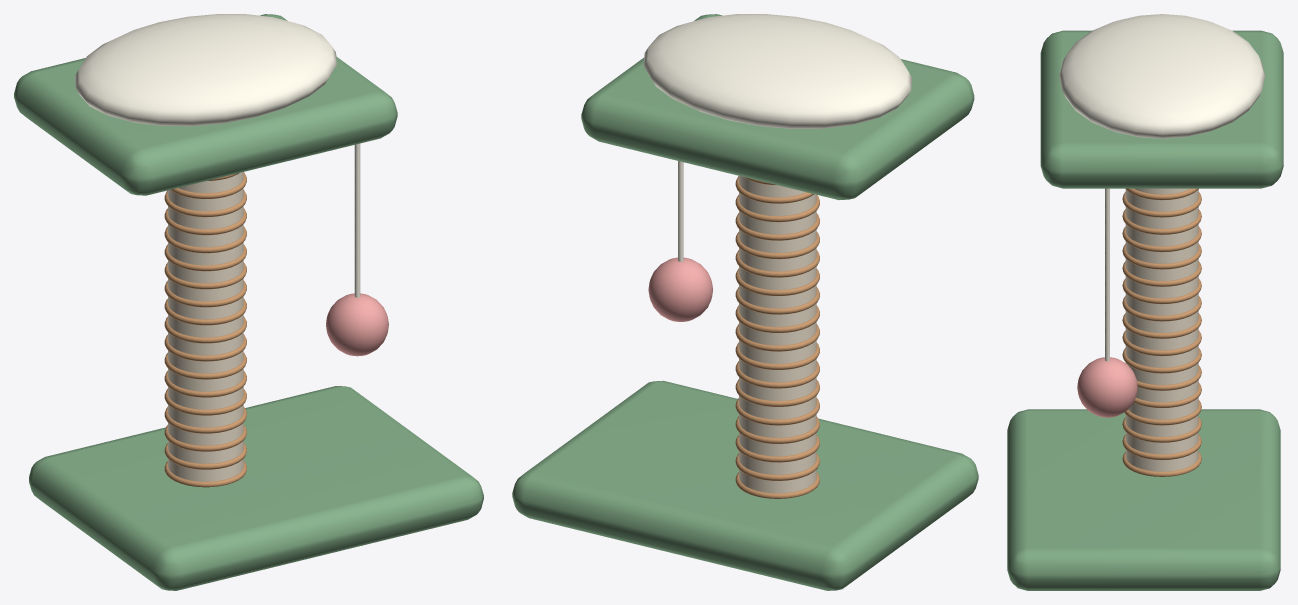
The model's file is toy-scratchPostGreen.glb.
3 renders of one model, left to right at view 1: azimuth 30°, elevation 25°; view 2: azimuth 150°, elevation 25°; view 3: azimuth 270°, elevation 25°, orthographic. The views are drawn at different scales.
Parts seen in each view (by area): view 1: Cat tree base, Upper perch, Cushion, Sisal post, Dangling toy, Hanging toy string, Rope ring.004, Rope ring.005, Rope ring.007, Rope ring.010, Rope ring.003, Rope ring.006 (+9 smaller); view 2: Cat tree base, Upper perch, Cushion, Sisal post, Dangling toy, Rope ring.012, Rope ring.014, Rope ring.010, Rope ring.006, Rope ring.008, Rope ring.002, Rope ring.004 (+10 smaller); view 3: Cat tree base, Cushion, Upper perch, Sisal post, Dangling toy, Hanging toy string, Rope ring.006, Rope ring.009, Rope ring.012, Rope ring.015, Rope ring.002, Rope ring.011 (+11 smaller).
Boxes of the visible parts, <box> form: Cat tree base: <box>29,386,483,590</box>; Upper perch: <box>14,14,397,195</box>; Cushion: <box>74,14,336,126</box>; Sisal post: <box>168,172,243,481</box>; Dangling toy: <box>326,293,388,356</box>; Hanging toy string: <box>354,143,360,297</box>; Rope ring.004: <box>164,389,246,415</box>; Rope ring.005: <box>164,371,246,397</box>; Rope ring.007: <box>164,334,246,361</box>; Rope ring.010: <box>164,280,246,307</box>; Rope ring.003: <box>164,407,246,433</box>; Rope ring.006: <box>164,353,246,379</box>; Cat tree base: <box>512,380,978,590</box>; Upper perch: <box>581,14,974,199</box>; Cushion: <box>643,14,911,128</box>; Sisal post: <box>739,176,816,493</box>; Dangling toy: <box>648,257,712,321</box>; Rope ring.012: <box>735,250,819,277</box>; Rope ring.014: <box>735,213,819,240</box>; Rope ring.010: <box>735,287,819,314</box>; Rope ring.006: <box>735,361,819,388</box>; Rope ring.008: <box>735,324,819,351</box>; Rope ring.002: <box>735,435,819,462</box>; Rope ring.004: <box>735,398,819,425</box>; Cat tree base: <box>1007,409,1280,590</box>; Cushion: <box>1059,14,1265,138</box>; Upper perch: <box>1040,30,1283,188</box>; Sisal post: <box>1125,188,1198,471</box>; Dangling toy: <box>1077,357,1137,417</box>; Hanging toy string: <box>1105,188,1109,361</box>; Rope ring.006: <box>1122,348,1201,373</box>; Rope ring.009: <box>1122,296,1201,321</box>; Rope ring.012: <box>1122,244,1201,269</box>; Rope ring.015: <box>1122,192,1201,217</box>; Rope ring.002: <box>1122,417,1201,442</box>; Rope ring.011: <box>1122,261,1201,286</box>.
Size of the model in its own units: 1.25 by 1.64 by 0.91.
